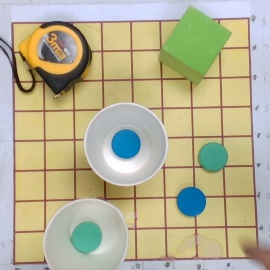cup_blue: (82, 102, 169, 187)
cup_green: (43, 193, 135, 270)
